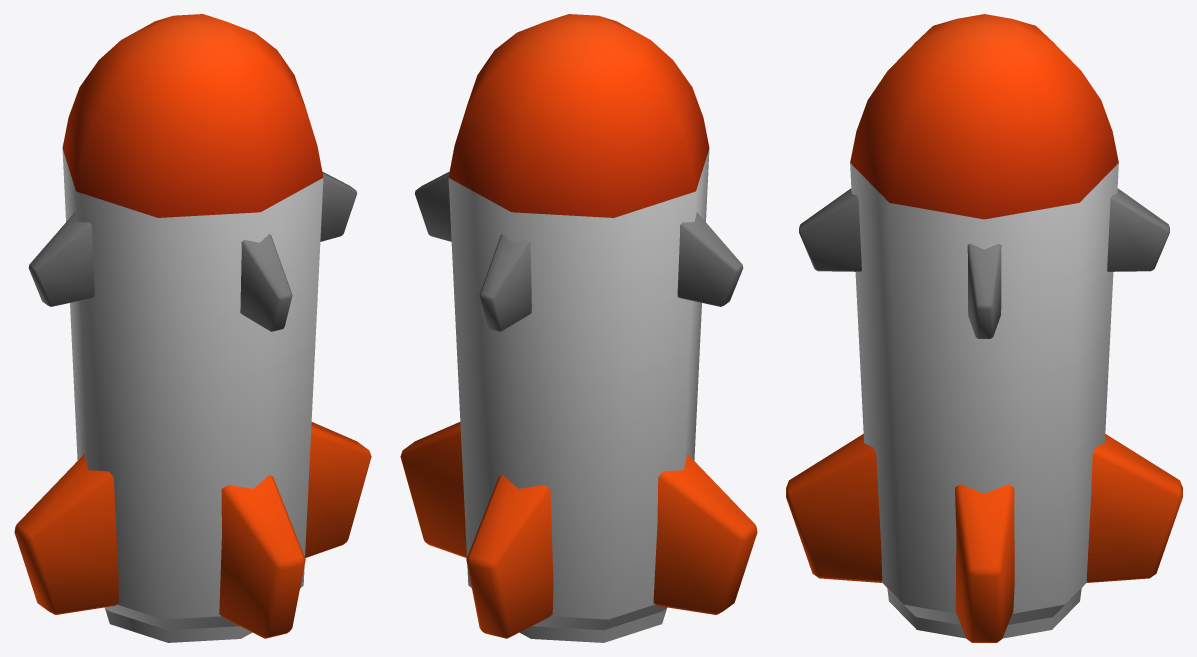
File: Weapon_Missile_01.fbx
The picture shows the model from 3 angles, left to right: view 1: azimuth 30°, elevation 25°; view 2: azimuth 150°, elevation 25°; view 3: azimuth 270°, elevation 25°; orthographic projection.
Visible parts, largest first — view 1: Weapon_Missile_01; view 2: Weapon_Missile_01; view 3: Weapon_Missile_01.
Boxes of the visible parts, box(x1,y1,x2,y2) form: Weapon_Missile_01: box(14, 14, 371, 642); Weapon_Missile_01: box(400, 14, 757, 642); Weapon_Missile_01: box(786, 14, 1182, 642).
Bounding box in the file's own units: 16.66 × 26.72 × 16.66.
